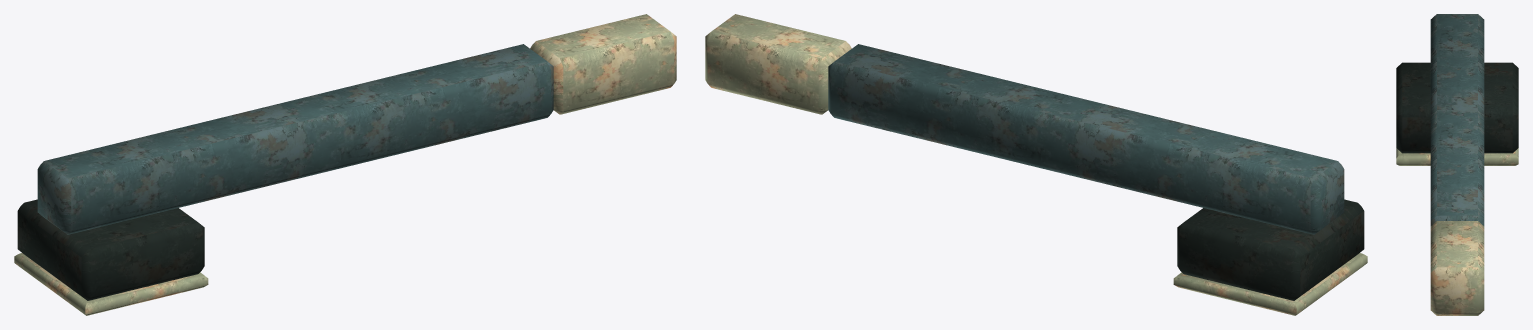
The model's file is island_rib.glb.
3 views of the same model, side by side, from view 1: azimuth 30°, elevation 25°; view 2: azimuth 150°, elevation 25°; view 3: azimuth 270°, elevation 25° (orthographic). The views are drawn at different scales.
Parts seen in each view (by area): view 1: HardwareSkin; view 2: HardwareSkin; view 3: HardwareSkin.
Boxes of the visible parts, left/top/right/bottom form: HardwareSkin: left=14, top=14, right=676, bottom=315; HardwareSkin: left=705, top=14, right=1367, bottom=315; HardwareSkin: left=1396, top=14, right=1518, bottom=315.
Bounding box in the file's own units: 4 × 0.75 × 0.8.
Materials: 1 (1 with a texture image).
